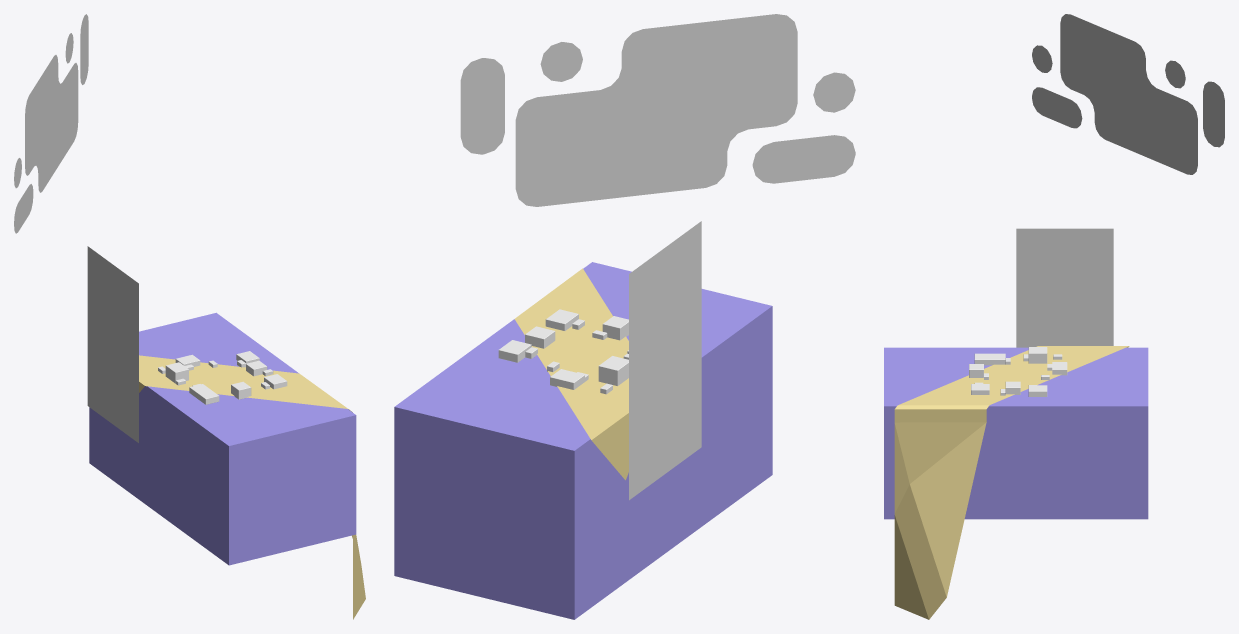
File: pageLayout-04.glb
3 views of the same model, side by side, from view 1: azimuth 30°, elevation 25°; view 2: azimuth 150°, elevation 25°; view 3: azimuth 270°, elevation 25° (orthographic). The views are drawn at different scales.
Parts seen in each view (by area): view 1: deskPlane, pictureFrame, cloud, papperPlane; view 2: deskPlane, cloud, pictureFrame, papperPlane, neighboar_005; view 3: deskPlane, papperPlane, cloud, pictureFrame.
Part boxes in pixels (x1=…): deskPlane: x1=89, y1=312, x2=356, y2=565; pictureFrame: x1=87, y1=246, x2=138, y2=442; cloud: x1=14, y1=14, x2=88, y2=233; papperPlane: x1=139, y1=355, x2=365, y2=619; deskPlane: x1=394, y1=262, x2=772, y2=619; cloud: x1=460, y1=14, x2=855, y2=206; pictureFrame: x1=629, y1=221, x2=701, y2=500; papperPlane: x1=514, y1=268, x2=628, y2=480; neighboar_005: x1=598, y1=356, x2=628, y2=385; deskPlane: x1=884, y1=347, x2=1148, y2=519; papperPlane: x1=894, y1=346, x2=1129, y2=619; cloud: x1=1032, y1=14, x2=1224, y2=174; pictureFrame: x1=1016, y1=228, x2=1113, y2=347.
Bounding box in the file's own units: 265 × 429 × 274.
